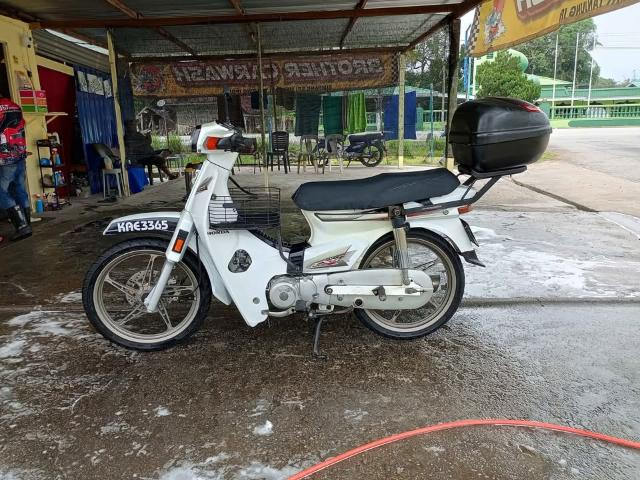License_Plate: (115, 222, 169, 235)
motorcycle: (82, 95, 553, 357)
